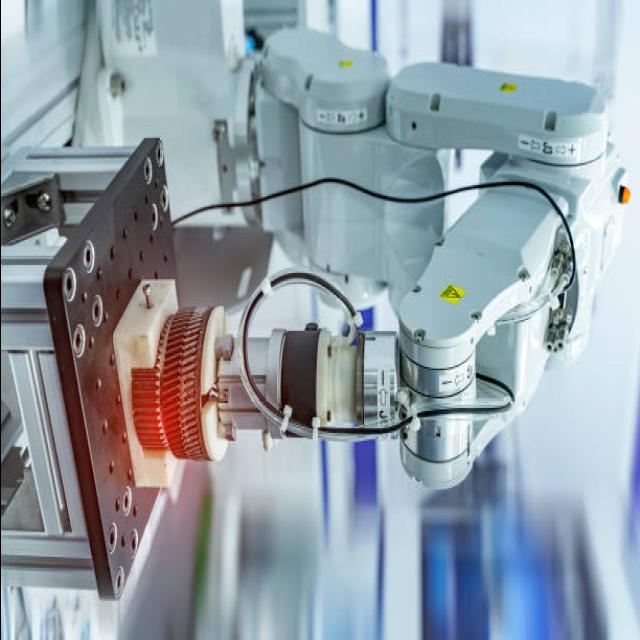Robotic-arm: (204, 25, 632, 503)
